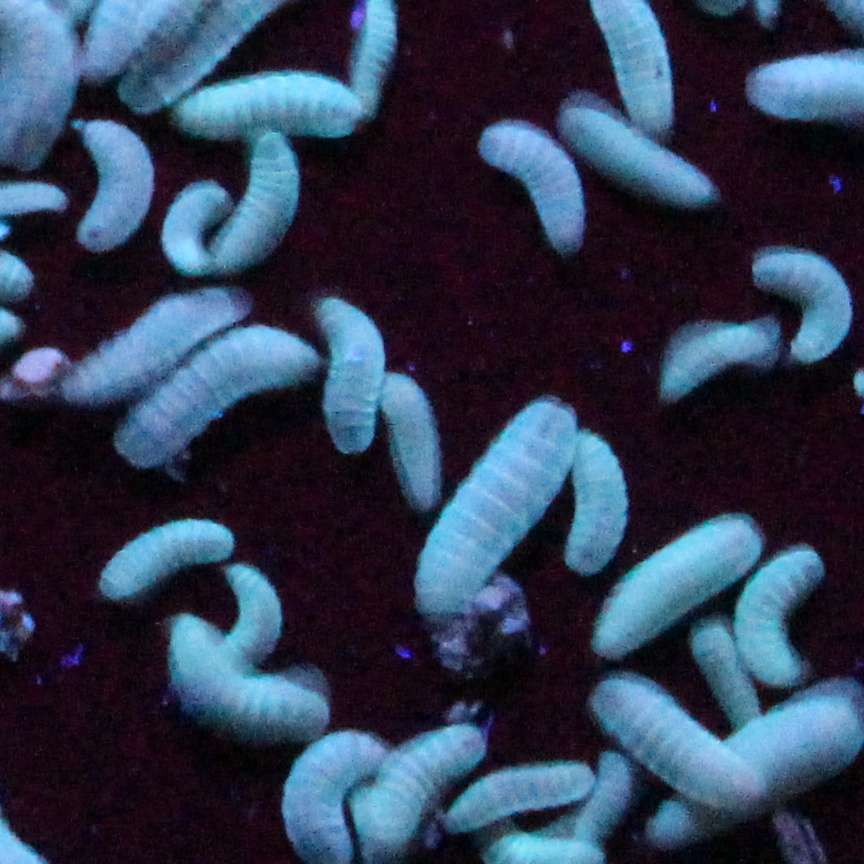larve: (410, 405, 564, 617), (653, 682, 855, 834), (124, 337, 313, 471), (581, 517, 738, 660), (598, 680, 764, 814), (55, 288, 235, 408), (161, 622, 333, 734), (553, 102, 721, 211), (473, 125, 601, 251), (358, 725, 470, 862), (753, 245, 861, 362), (98, 520, 238, 597), (373, 371, 447, 502), (650, 328, 778, 400), (221, 131, 281, 282), (753, 551, 824, 677), (567, 437, 630, 574), (441, 768, 587, 825), (327, 294, 373, 460), (78, 120, 130, 248)
